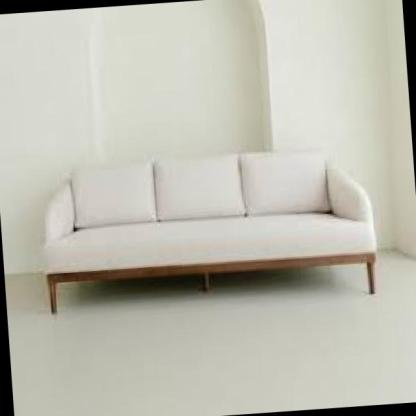Sofa: (19, 134, 401, 340)
